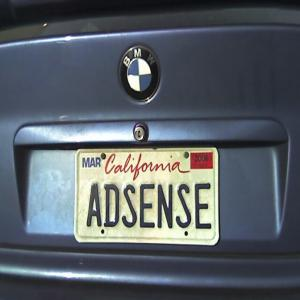Vehicle-registration-plate: (76, 148, 218, 243)
